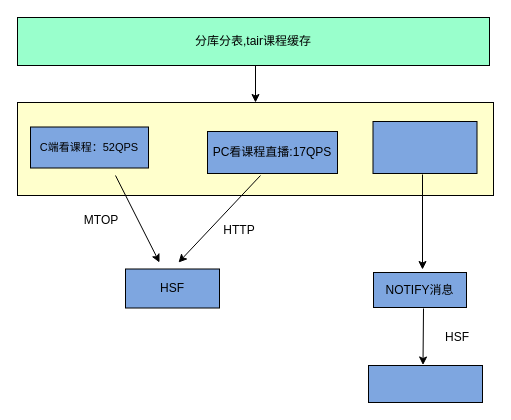
This 511x420 diagram has some shape labels left out. Here are the shapes that lost their labels. From the top down, the centre of each, then its label:
At pixel 424 147: "订单".
At pixel 425 383: "自动发货".
